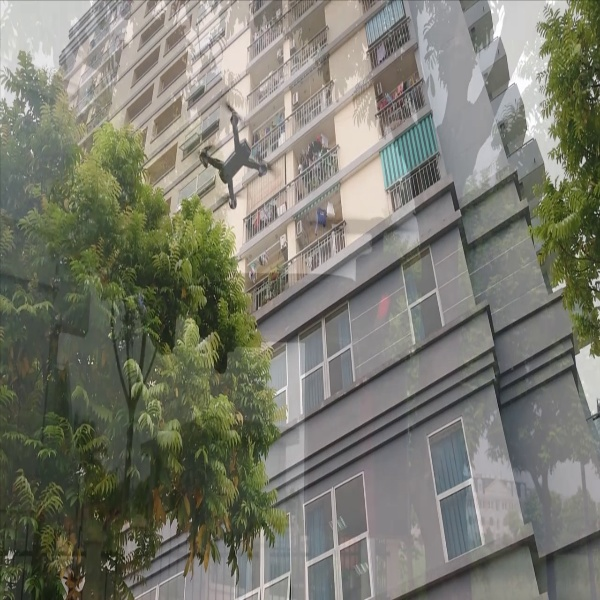drone: (192, 96, 278, 216)
